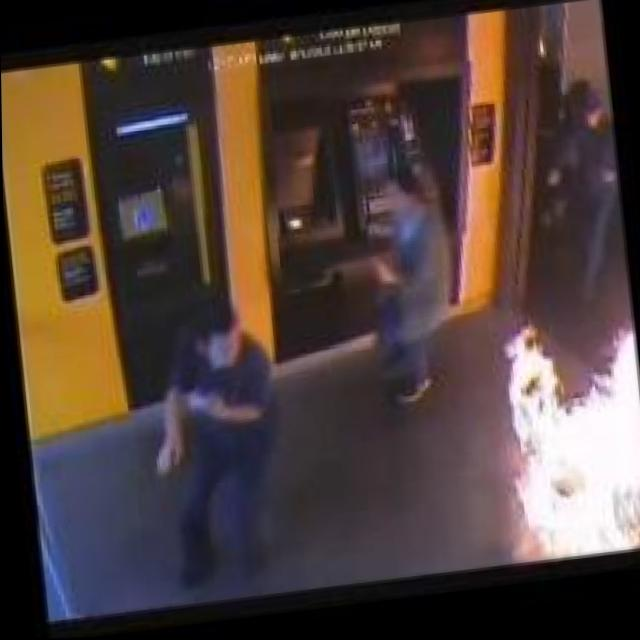fire: (480, 300, 640, 569)
